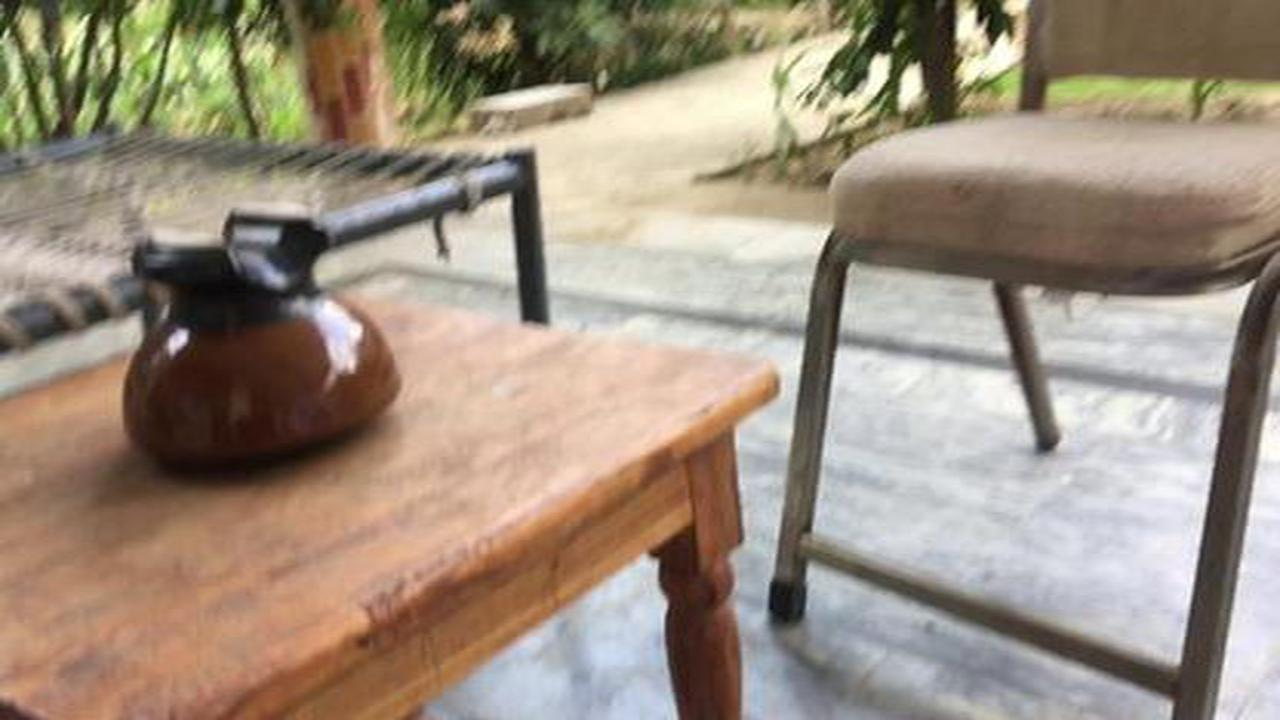insulator_pin: (93, 198, 413, 489)
